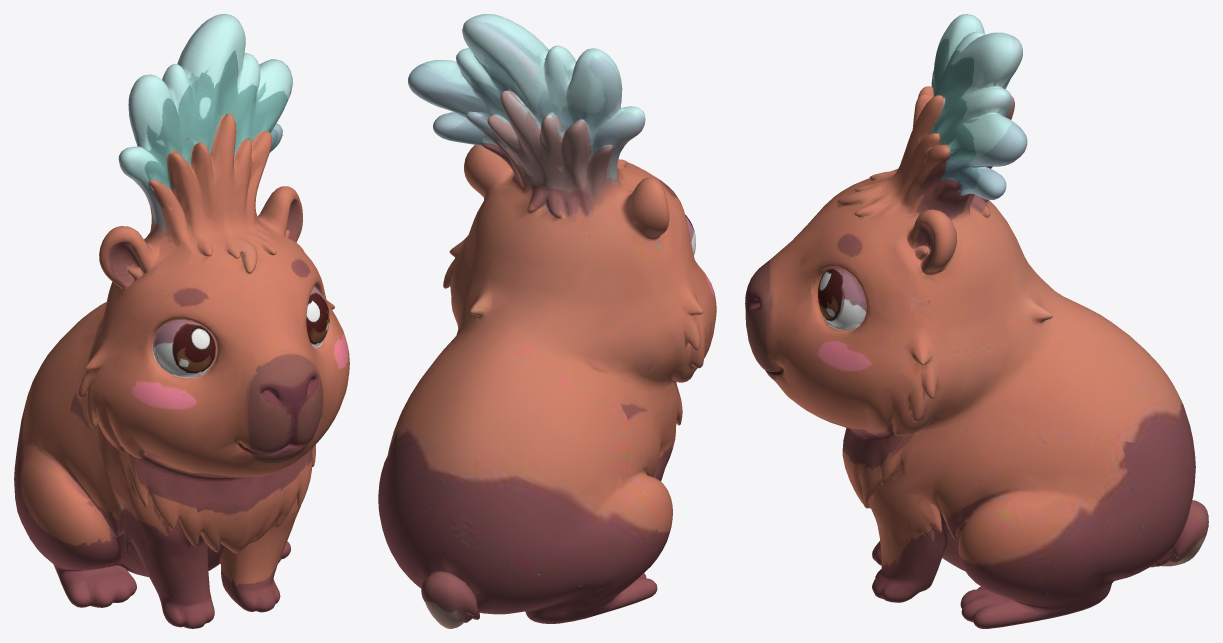
3 views of the same model, side by side, from view 1: azimuth 30°, elevation 25°; view 2: azimuth 150°, elevation 25°; view 3: azimuth 270°, elevation 25° (orthographic). The views are drawn at different scales.
Visible parts, largest first — view 1: Mesh_0; view 2: Mesh_0; view 3: Mesh_0.
Part boxes in pixels (bbox=[...]): Mesh_0: bbox=[14, 14, 349, 628]; Mesh_0: bbox=[378, 14, 716, 628]; Mesh_0: bbox=[745, 14, 1208, 628].
Size of the model in its own units: 0.9531 by 1.9 by 1.41.
1 material, 1 textured.
